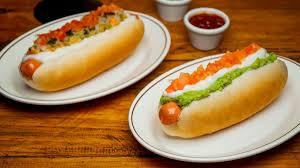Completos: (157, 45, 288, 145), (20, 0, 147, 85)
